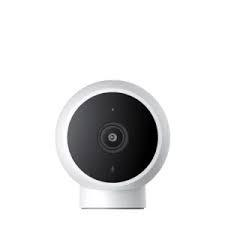maru: (50, 74, 178, 196)
